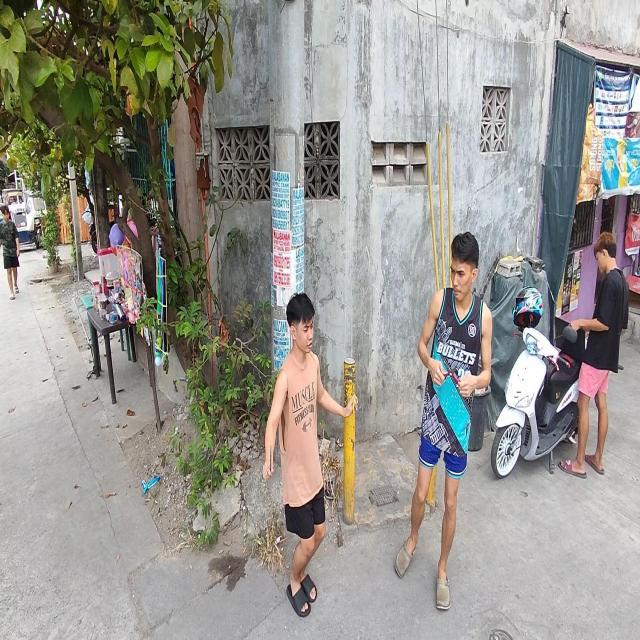scissor: (443, 361, 460, 385), (267, 445, 274, 473)
